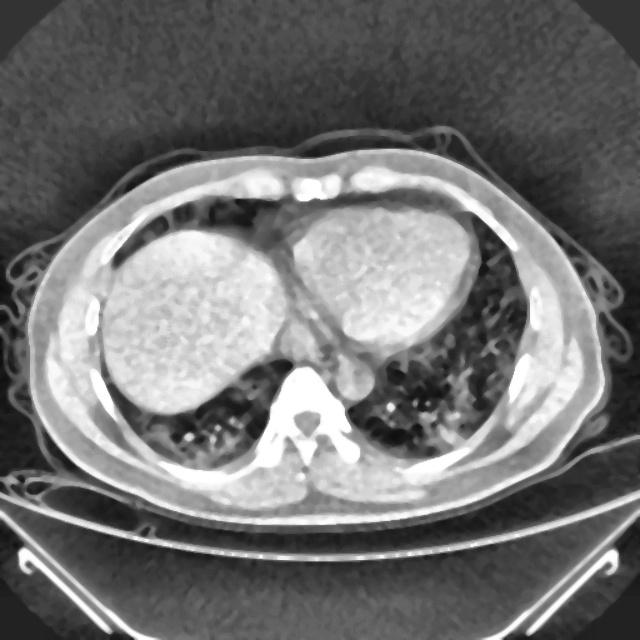covid: (25, 140, 609, 529)
